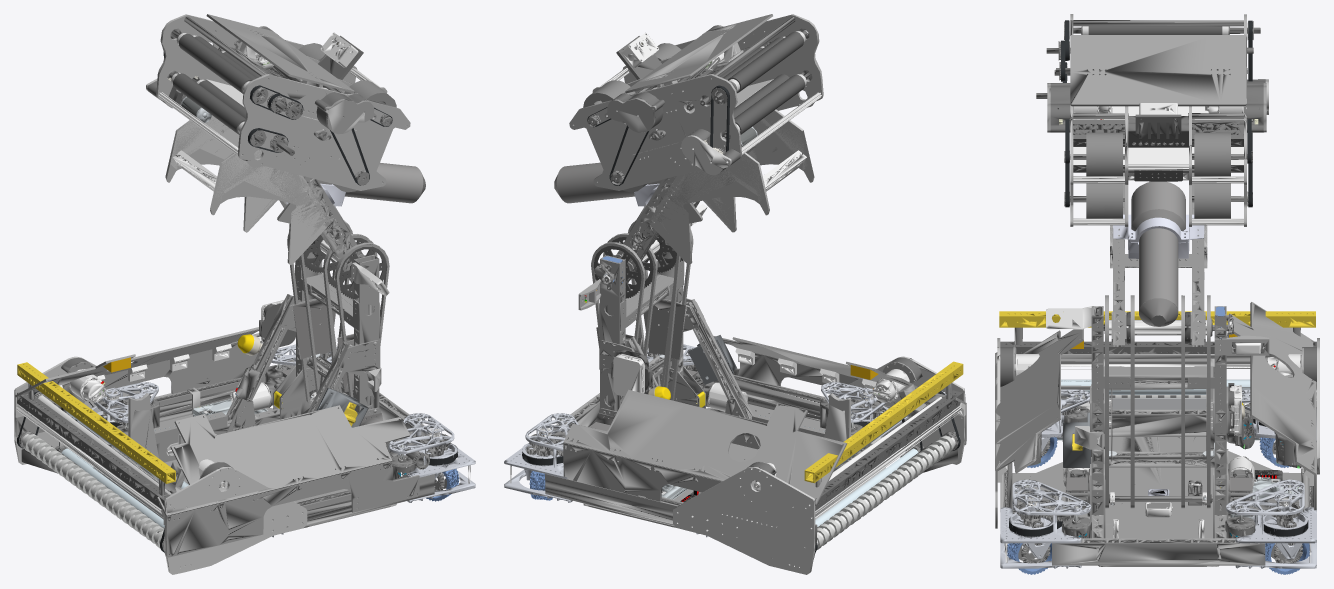
File: nocturne-3467.glb
3 renders of one model, left to right at view 1: azimuth 30°, elevation 25°; view 2: azimuth 150°, elevation 25°; view 3: azimuth 270°, elevation 25°, orthographic. The views are drawn at different scales.
Visible parts, largest first — view 1: frame, shooter, arm; view 2: frame, shooter, arm; view 3: frame, shooter, arm.
Boxes of the visible parts, <box> form: frame: <box>14,220,475,574</box>; shooter: <box>146,14,425,264</box>; arm: <box>210,124,363,282</box>; frame: <box>504,204,966,574</box>; shooter: <box>554,14,823,264</box>; arm: <box>617,128,777,282</box>; frame: <box>995,295,1319,574</box>; shooter: <box>1036,14,1268,326</box>; arm: <box>1110,172,1207,346</box>.
Size of the model in its own units: 0.8566 by 1.09 by 0.6778.
